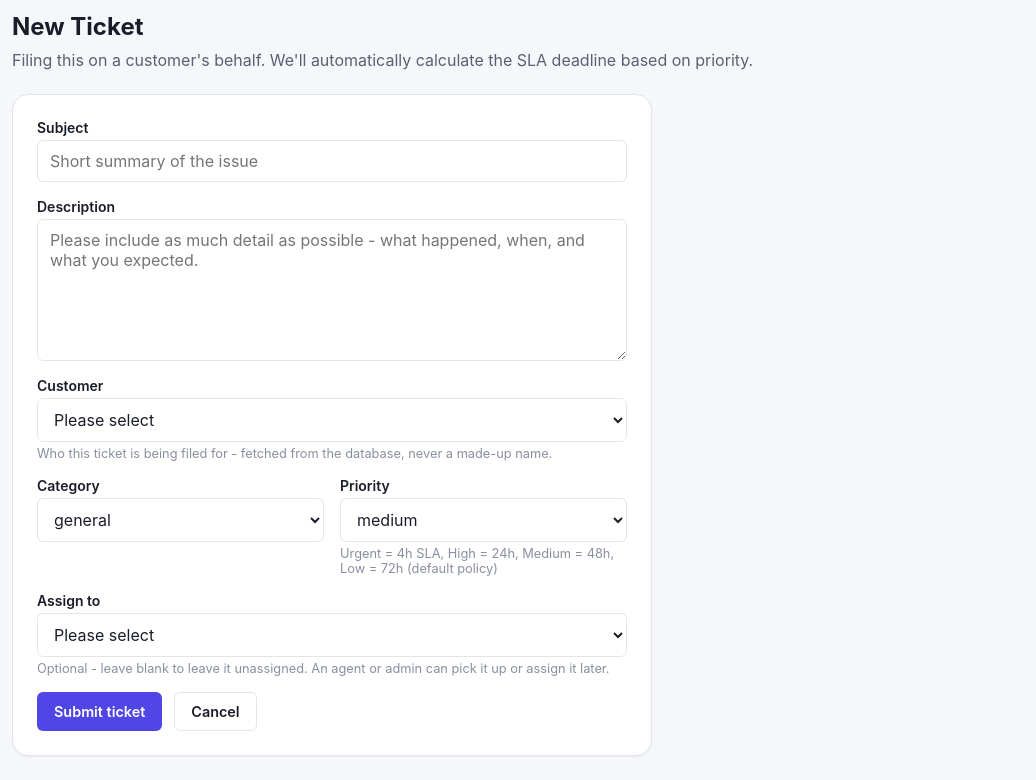
Test: NewTicketPage › blocks submission with a clear error if an agent has not chosen which customer this is for
Expected: the dropdown labelled "Customer" is shown, x1=37 y1=398 x2=627 y2=442
Step 1. Type "A ticket missing its customer" into the field labelled "Subject" → (332, 161), box x1=37 y1=140 x2=627 y2=182
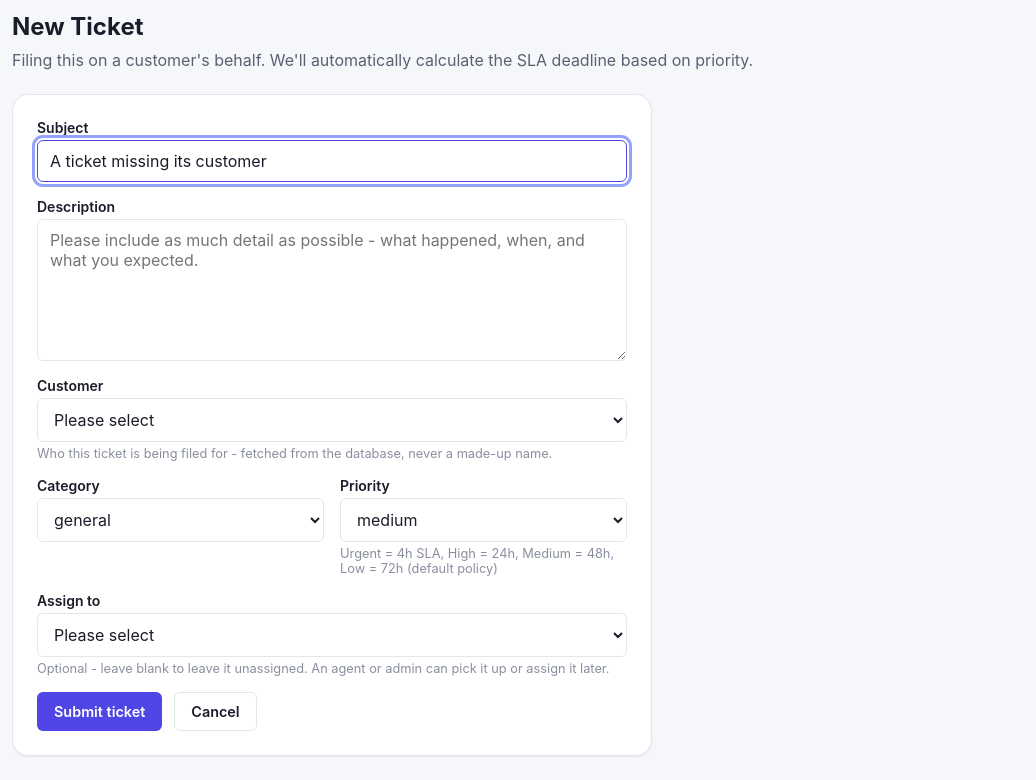
Step 2. Type "Filed without picking who this is for - should be blocked client-side." into the text box labelled "Description" → (332, 290), box x1=37 y1=219 x2=627 y2=361
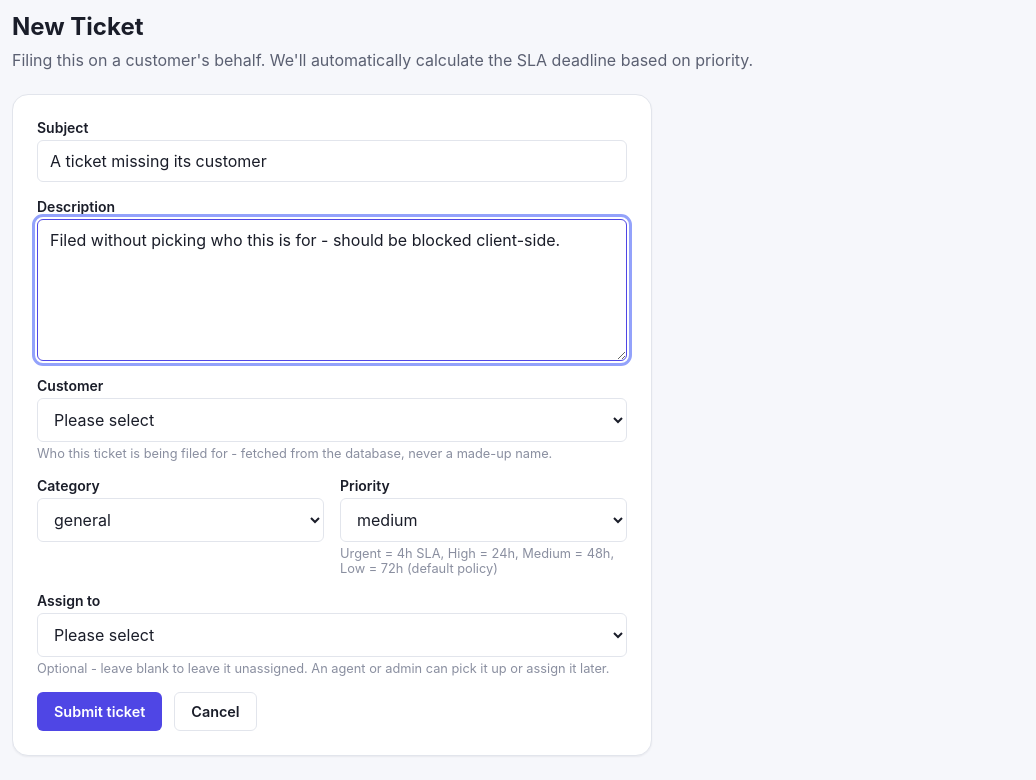
Step 3. Click the button "Submit ticket" → (100, 712), box x1=37 y1=692 x2=162 y2=731
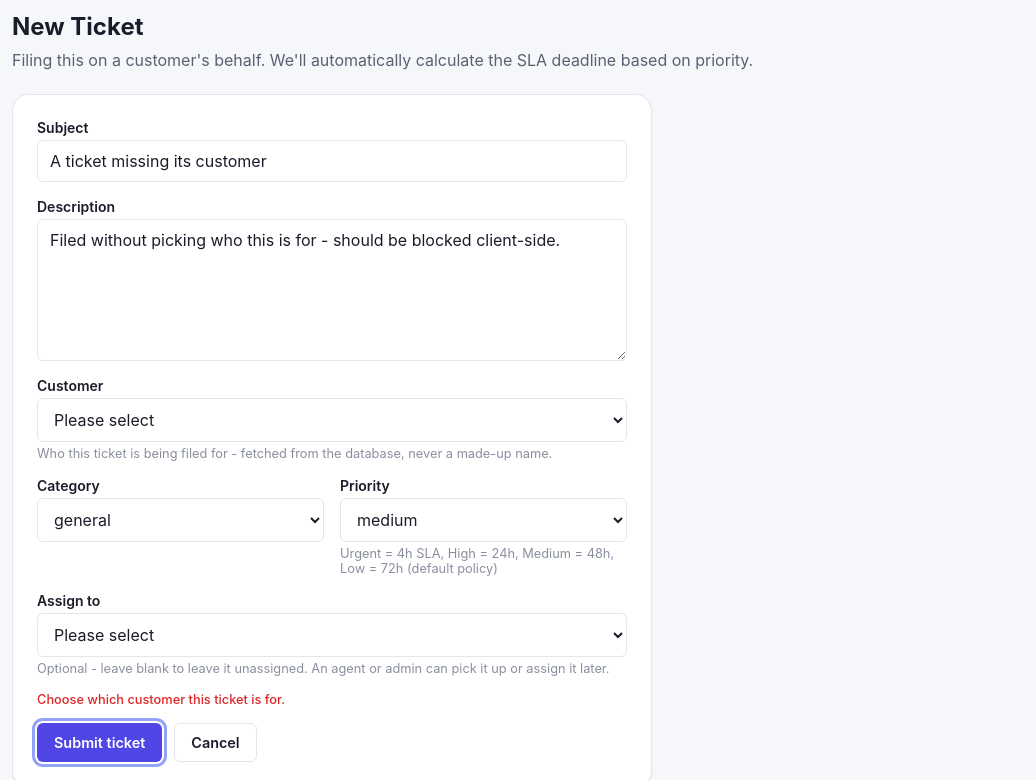
Expected: the message shows "Choose which customer", x1=37 y1=692 x2=285 y2=707
